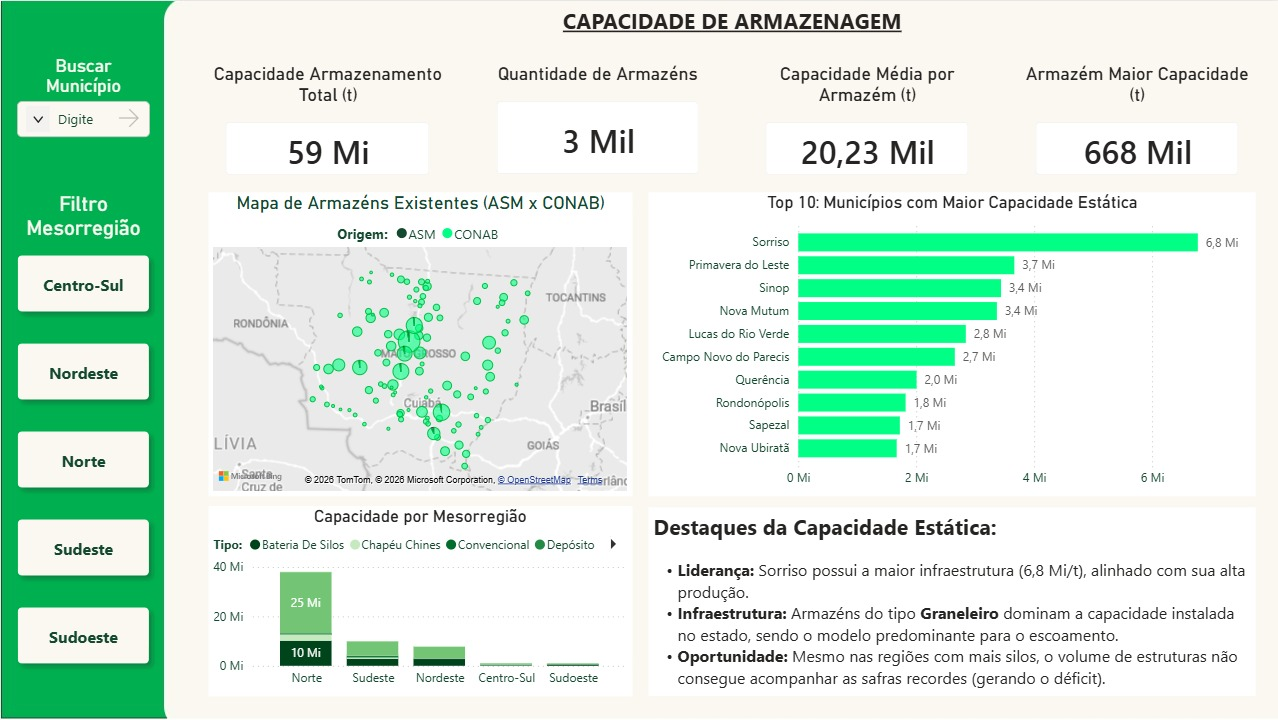

The page's visual inventory and layout, read from the dashboard file:
{"tool":"powerbi","page":{"name":"Capacidade Armazenagem","canvas":[1280,720],"ordinal":2},"visuals":[{"type":"cardVisual","title":"Quantidade de Armazéns","fields":{"Data":["Medidas.Qtd Armazéns"]},"box":[478.8,62.5,236.2,128.8],"z":0},{"type":"cardVisual","title":"Capacidade Armazenamento Total (t)","fields":{"Data":["Medidas.Capacidade Total (t)"]},"box":[207.5,62.5,238.8,128.8],"z":1000},{"type":"cardVisual","title":"Capacidade Média por Armazém (t)","fields":{"Data":["Medidas.Capacidade Média"]},"box":[747.5,62.5,237.5,128.8],"z":2000},{"type":"cardVisual","title":"Armazém Maior Capacidade (t)","fields":{"Data":["Medidas.Maior Capacidade"]},"box":[1017.5,62.5,237.5,128.8],"z":3000},{"type":"map","title":"Mapa de Armazéns Existentes (ASM x CONAB)","fields":{"Category":["Dim_Municipio.Pais Hierarquia.Pais","Dim_Municipio.Pais Hierarquia.UF","Dim_Municipio.Pais Hierarquia.Municipio"],"Size":["Medidas.Capacidade Total (t)"],"Series":["Fato_Armazem.Origem"]},"box":[207.5,191.2,423.8,303.8],"z":4000},{"type":"barChart","title":"Top 10: Municípios com Maior Capacidade Estática","fields":{"Category":["Dim_Municipio.Municipio"],"Y":["Medidas.Capacidade Total (t)"]},"box":[647.5,191.2,607.5,303.8],"z":5000},{"type":"textbox","box":[647.5,506.2,607.5,188.8],"z":7000},{"type":"columnChart","title":"Capacidade por Mesorregião","fields":{"Category":["Dim_Municipio.Mesorregiao"],"Y":["Medidas.Capacidade Total (t)"],"Series":["Fato_Armazem.TipoArmazem"]},"box":[207.5,505,423.8,190],"z":10000},{"type":"textbox","box":[530,0,402.5,55],"z":11000},{"type":"advancedSlicerVisual","title":"Filtro Mesorregião","fields":{"Values":["Dim_Municipio.Mesorregiao"]},"box":[0,191.2,165,490],"z":11001},{"type":"textSlicer","title":"Buscar Município","fields":{"Values":["Dim_Municipio.Municipio"]},"box":[11.2,53.8,142.5,87.5],"z":11002}]}

Visuals, with their boxes in screenshot pixels (x1, y1, x2, y2), scaled from the page's 1280x720 canvas onto the 1278x720 screenshot:
"Quantidade de Armazéns" cardVisual: 478/62/714/191
"Capacidade Armazenamento Total (t)" cardVisual: 207/62/446/191
"Capacidade Média por Armazém (t)" cardVisual: 746/62/983/191
"Armazém Maior Capacidade (t)" cardVisual: 1016/62/1253/191
"Mapa de Armazéns Existentes (ASM x CONAB)" map: 207/191/630/495
"Top 10: Municípios com Maior Capacidade Estática" barChart: 646/191/1253/495
textbox: 646/506/1253/695
"Capacidade por Mesorregião" columnChart: 207/505/630/695
textbox: 529/0/931/55
"Filtro Mesorregião" advancedSlicerVisual: 0/191/165/681
"Buscar Município" textSlicer: 11/54/153/141
